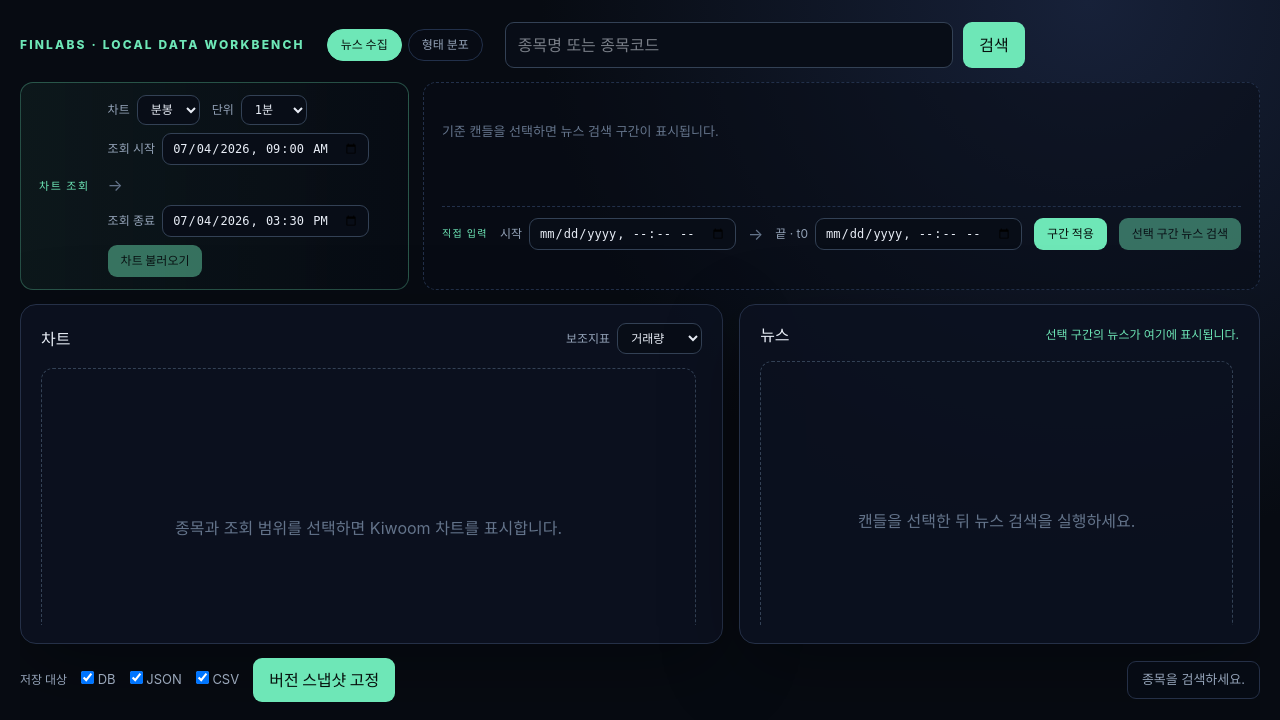
Test: App composition root › rejects a typed window whose start is not before t0
Type "2026-06-17T09:31" into the field named "뉴스 구간 시작" at (632, 234), box [529,218,736,250]
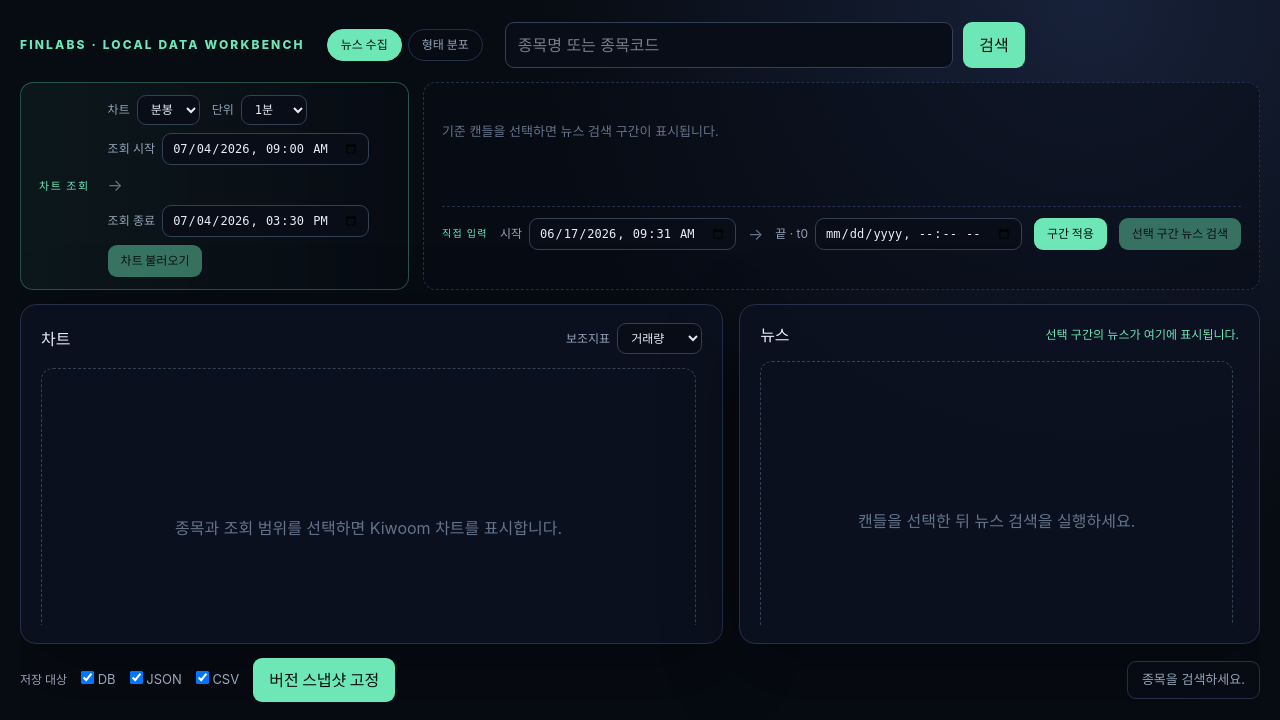
Type "2026-06-17T08:31" into the field named "뉴스 구간 끝 t0" at (918, 234), box [815,218,1022,250]
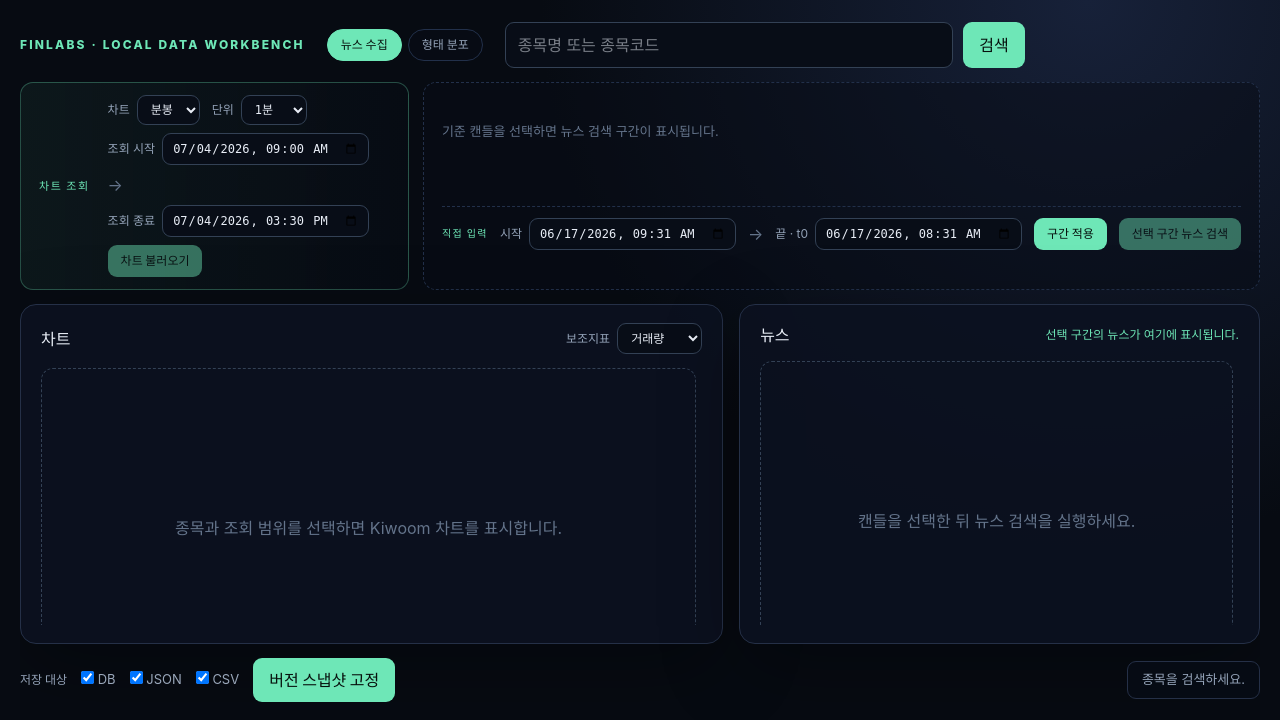
Click the button "구간 적용" at (1070, 234), box [1034,218,1107,250]
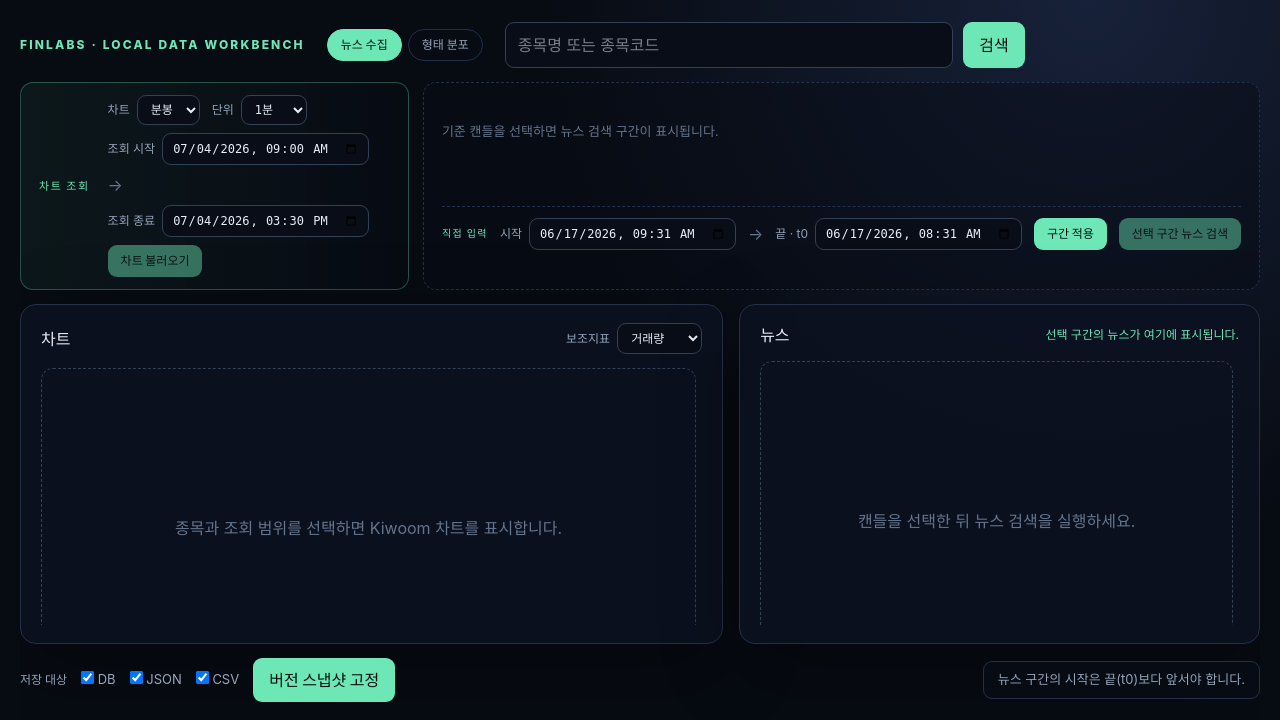
Expected: the text "뉴스 구간의 시작은 끝(t0)보다 앞서야 합니다." is shown, [983,661,1260,699]
